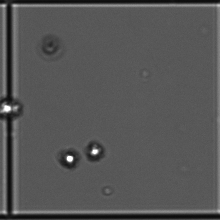Dead Cell: (39, 31, 70, 59)
Living Cell: (59, 148, 80, 174), (85, 138, 106, 162), (3, 98, 23, 121)
